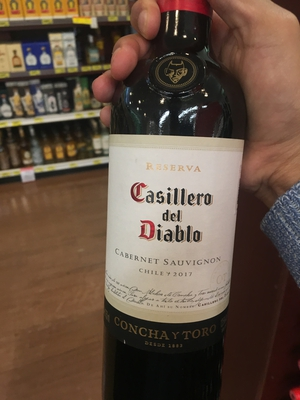casillero del diablo cabernet sauvignon: (97, 15, 257, 400)
